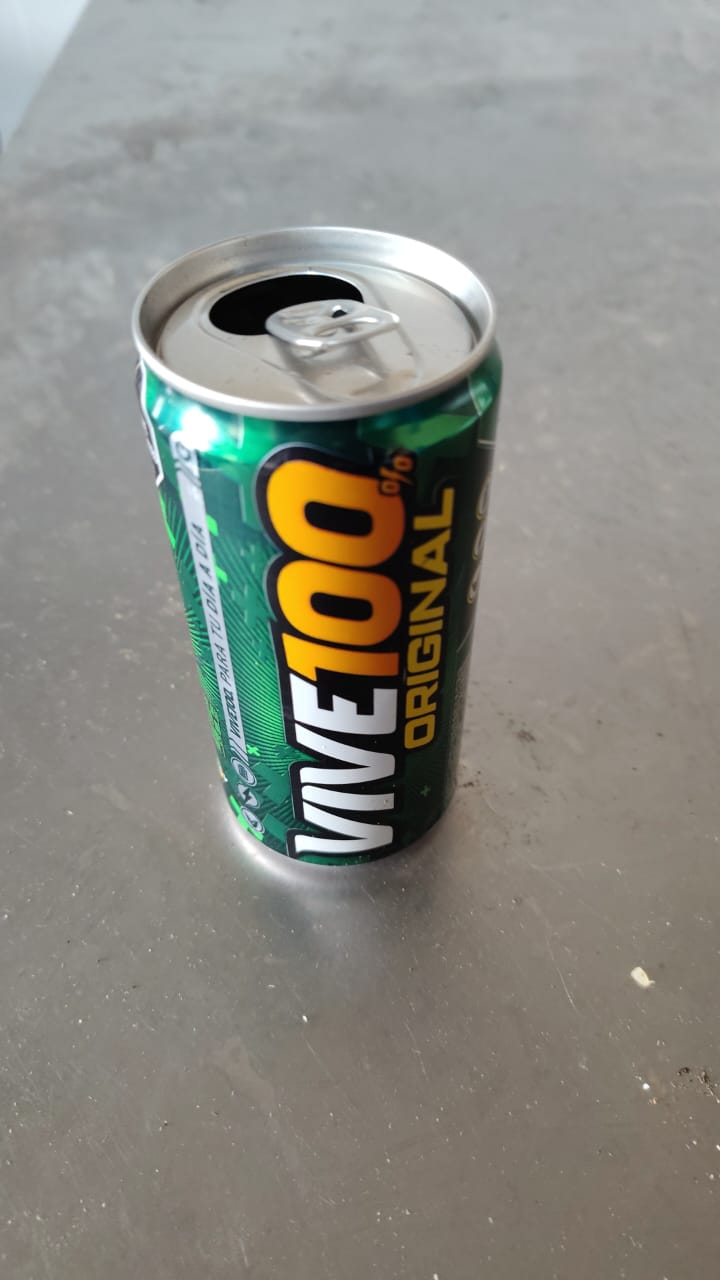Metal: (137, 225, 505, 869)
